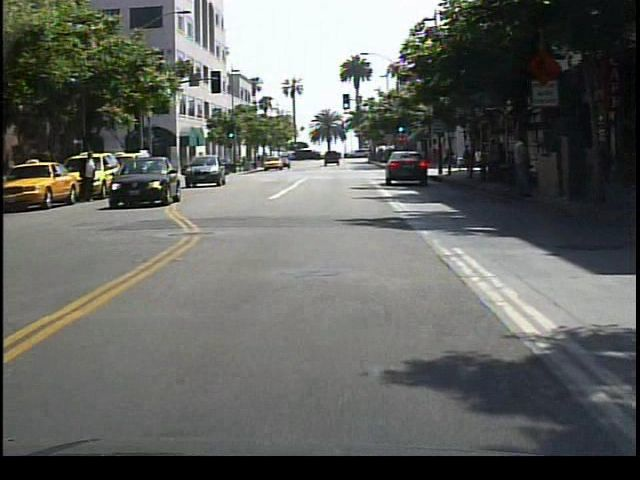person: (508, 130, 536, 203), (81, 147, 102, 207)
